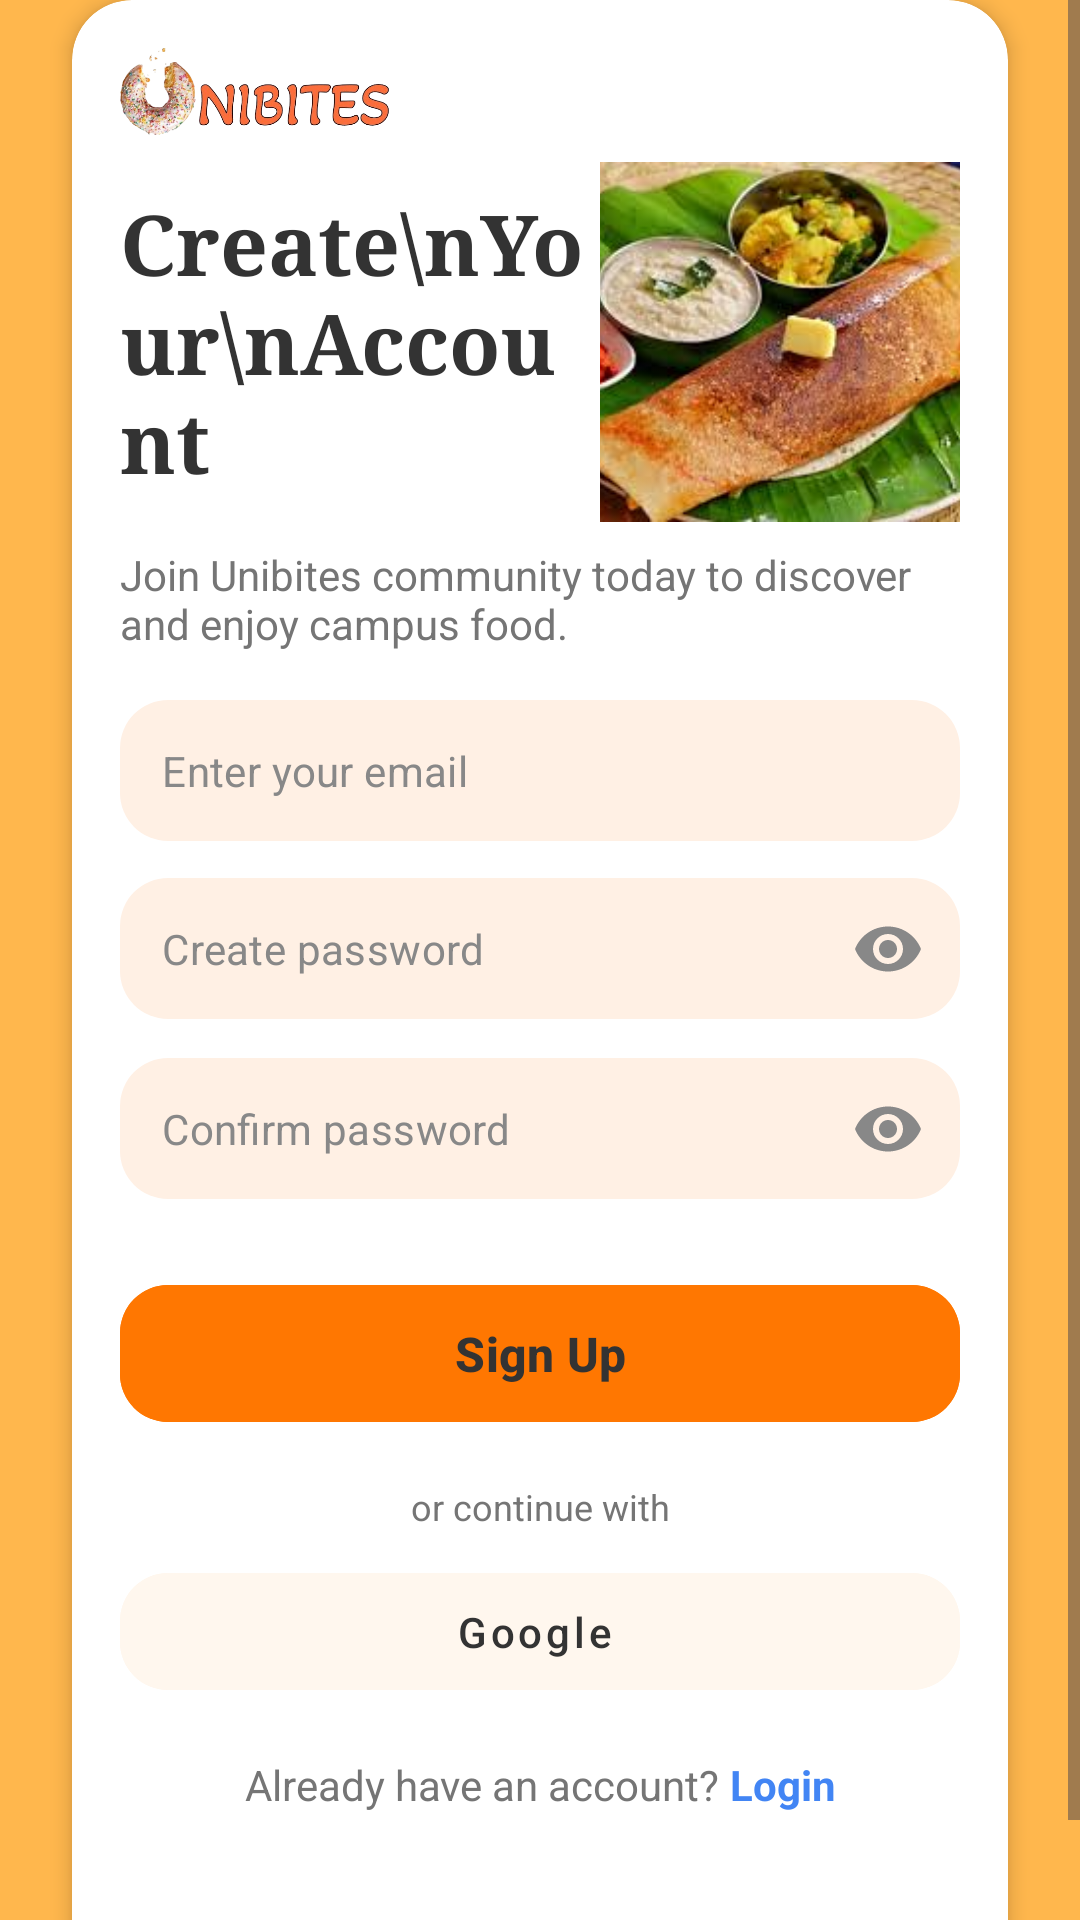

Where to tap for icons on this 1080w x 1920h app screen, as point (x, y):
dosa: point (780, 342)
